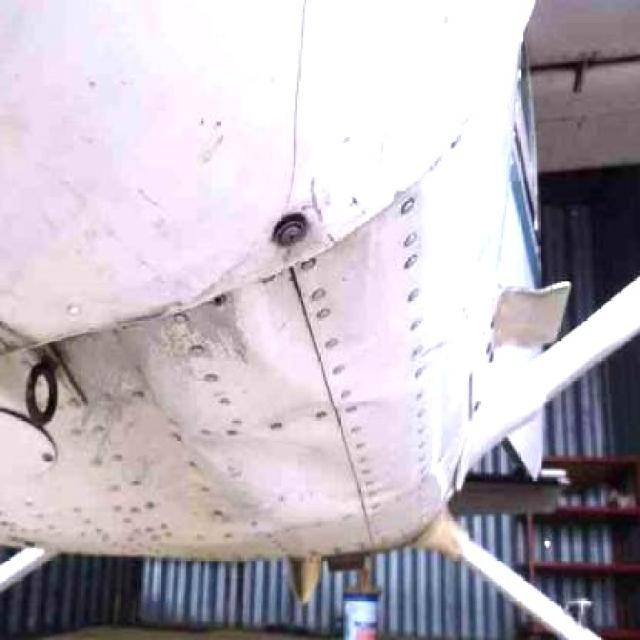dent: (219, 417, 352, 517), (241, 255, 332, 393)
